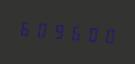nine: (50, 18, 65, 43)
six: (66, 19, 81, 45), (17, 15, 32, 40)
zero: (33, 17, 48, 42), (82, 21, 97, 46), (98, 22, 113, 47)
